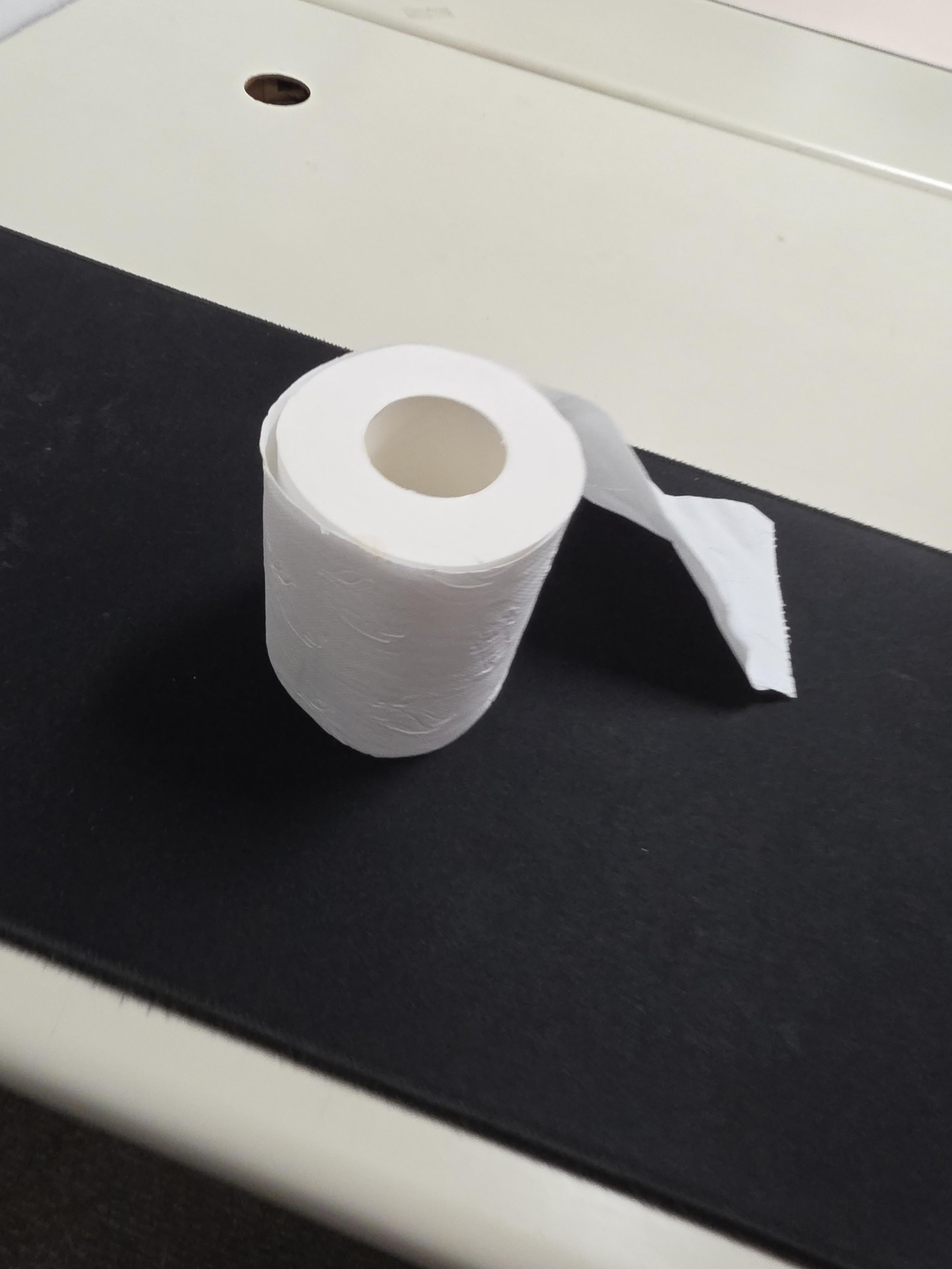tissue: (259, 343, 798, 759)
